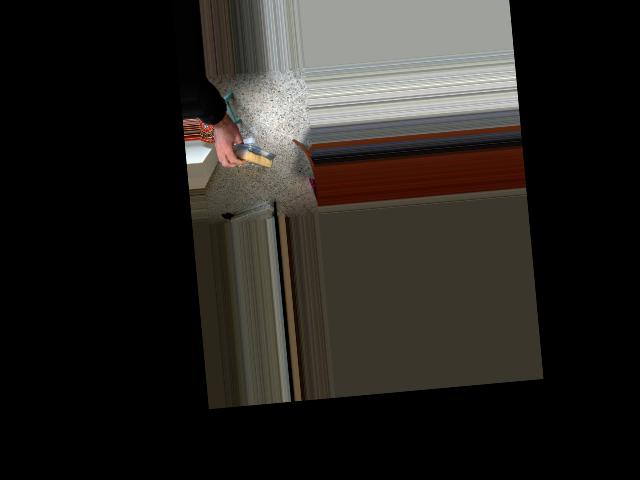cheese: (223, 135, 279, 175)
